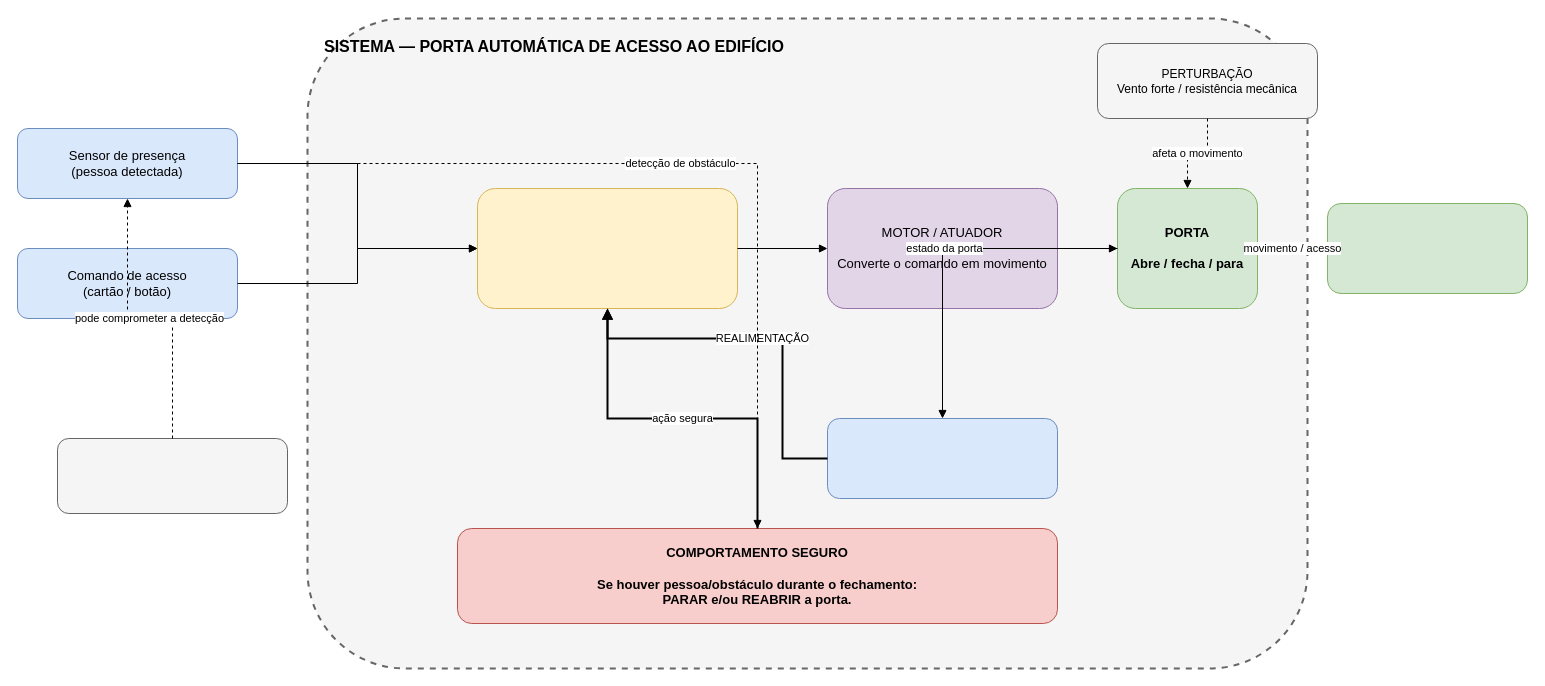
The diagram is 1545 pixels wide and 686 high, and some of its shapes have lost their labels. The centre of each missing label's shape, as x and y in pixels:
CONTROLADOR Processa as entradas e decide abrir, fechar, parar ou reabrir: (607,248)
FALHA Sensor de presença com defeito: (172,476)
SAÍDA Acesso liberado / bloqueado e movimento da porta: (1427,248)
Sensor de posição (aberta / fechada): (942,458)
